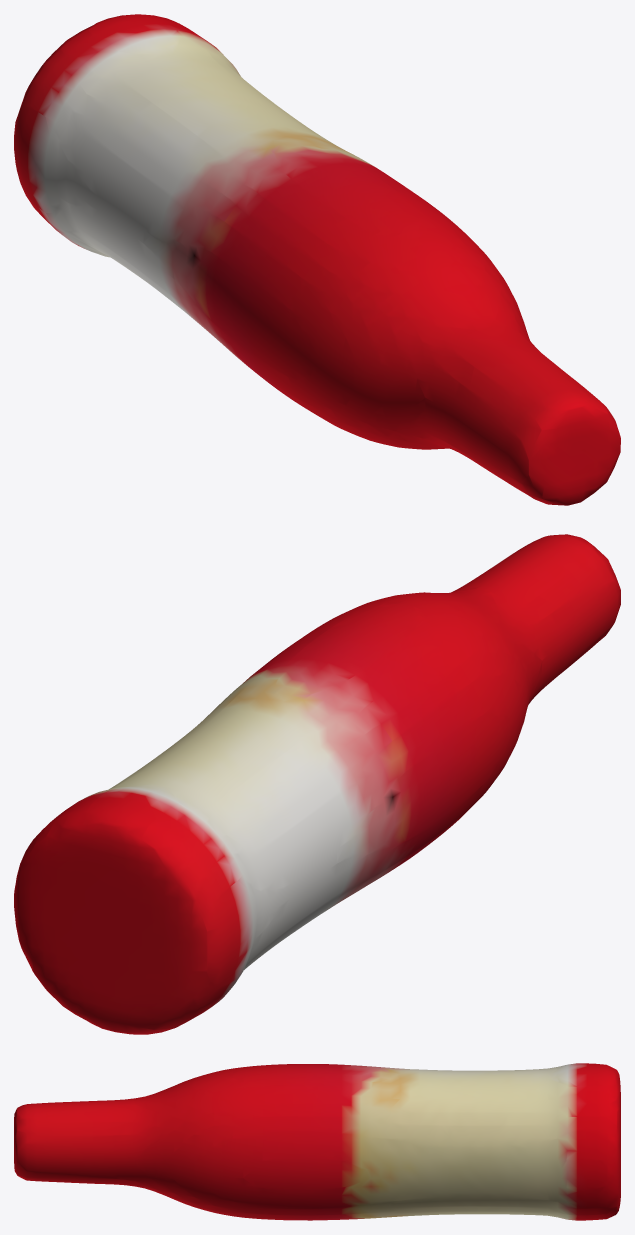
File: a bottle.obj
The picture shows the model from 3 angles, top to bottom: view 1: azimuth 30°, elevation 25°; view 2: azimuth 150°, elevation 25°; view 3: azimuth 270°, elevation 25°; orthographic projection. The views are drawn at different scales.
Size of the model in its own units: 0.2599 by 0.2596 by 1.
